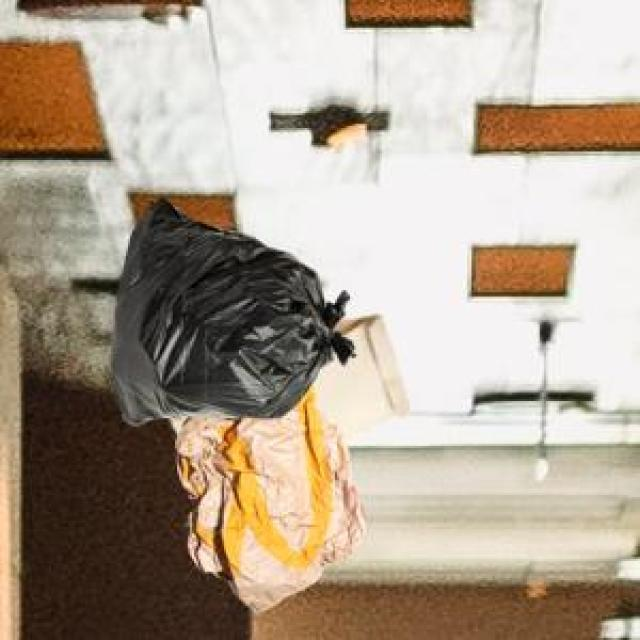miscellaneous trash: (107, 194, 352, 420)
paper: (171, 382, 361, 608), (166, 312, 405, 437)
